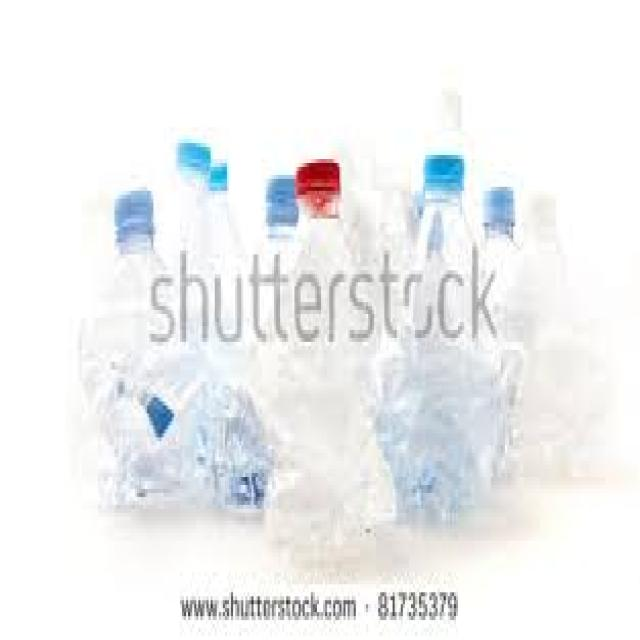plastic: (270, 155, 395, 553), (376, 147, 499, 521), (78, 187, 190, 493), (86, 346, 268, 513), (472, 179, 530, 469), (522, 183, 577, 473), (407, 76, 482, 243), (203, 155, 252, 386), (162, 131, 211, 278), (329, 135, 374, 266), (366, 139, 407, 259), (111, 179, 152, 238), (417, 147, 464, 195), (291, 155, 338, 199), (264, 167, 299, 219), (479, 183, 514, 223), (423, 84, 456, 124), (174, 139, 209, 175), (526, 191, 554, 223), (204, 159, 225, 191)
